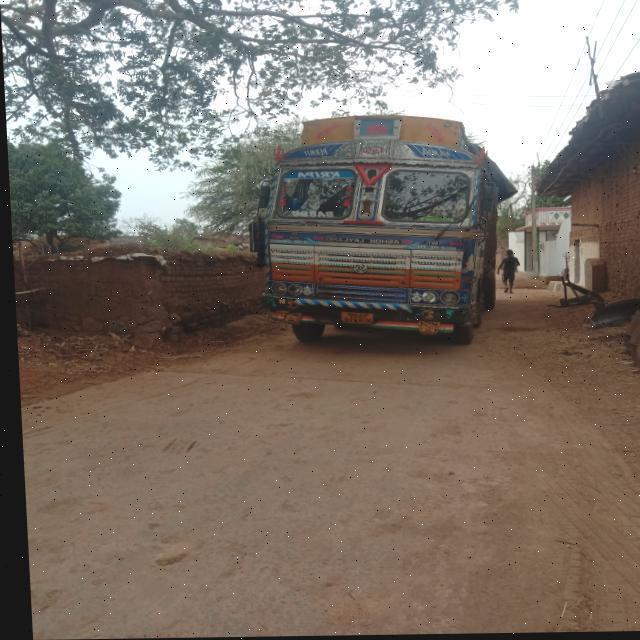plate: (337, 312, 372, 326)
